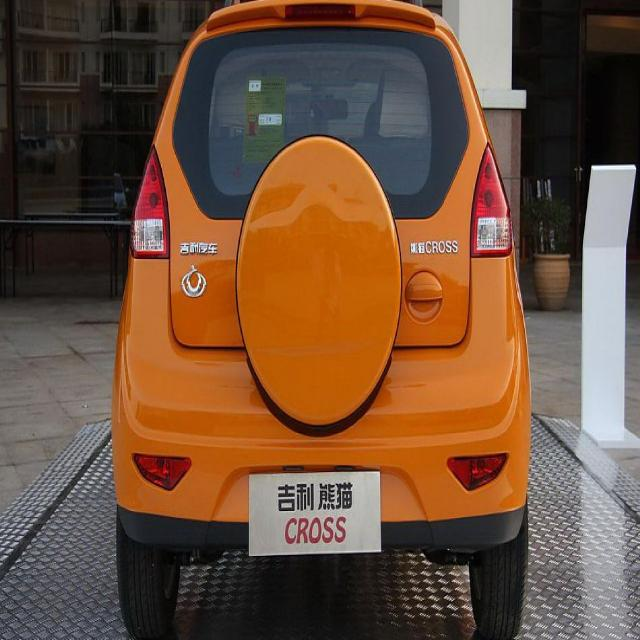back_glass: (173, 26, 470, 227)
back_left_side_light: (129, 141, 168, 260)
back_right_side_light: (469, 144, 515, 260)
rear_bumper: (110, 255, 532, 552)
wheel: (477, 518, 529, 635), (118, 536, 170, 638)
